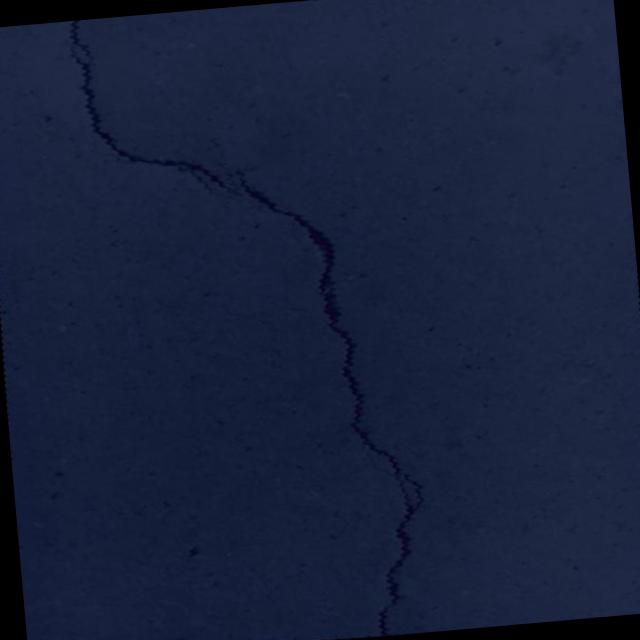crack: (224, 153, 439, 640), (58, 7, 244, 219), (172, 112, 184, 138)
